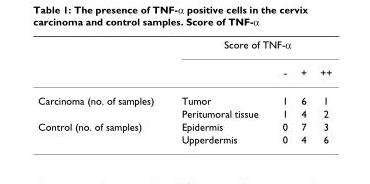table: (37, 37, 331, 144)
table column: (37, 37, 167, 144), (167, 37, 269, 144), (269, 37, 293, 144), (293, 37, 312, 144), (312, 37, 331, 144)
table column header: (37, 37, 331, 86)
table row: (37, 58, 331, 86), (37, 37, 331, 58), (37, 86, 331, 106), (37, 106, 331, 119), (37, 119, 331, 132), (37, 132, 331, 144)
table spanning cell: (37, 86, 167, 119), (167, 37, 331, 58), (37, 119, 167, 144)
